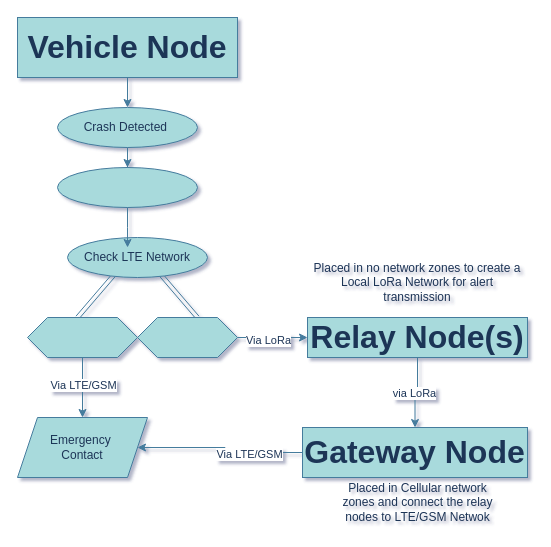
Image size: 551x547. Some labels were removed from this diagram. The shapes that lost their labels are listed below. From the top down, each one's box as (x1, y1, x2, y2) in pixels, then its label:
(56, 166, 198, 208): Acquire GPS Location
(26, 316, 138, 358): LTE Network Available
(136, 316, 238, 358): LTE Network Unavailable
